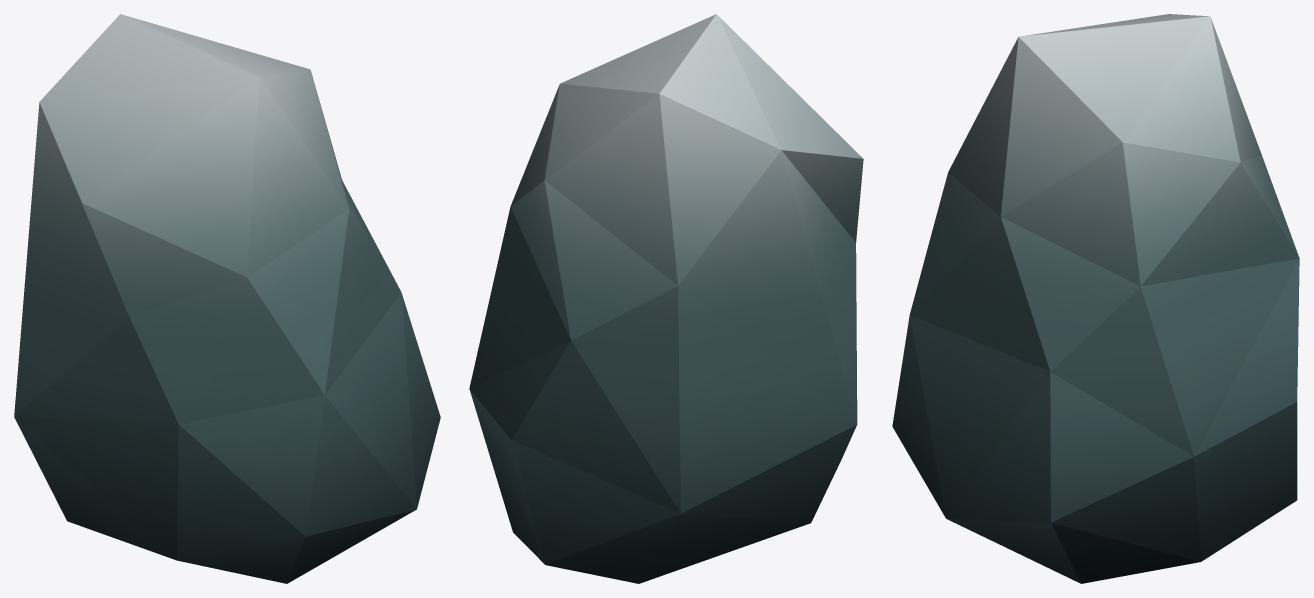
The picture shows the model from 3 angles, left to right: view 1: azimuth 30°, elevation 25°; view 2: azimuth 150°, elevation 25°; view 3: azimuth 270°, elevation 25°; orthographic projection. The views are drawn at different scales.
Visible parts, largest first — view 1: Base_05; view 2: Base_05; view 3: Base_05.
Part boxes in pixels (<box>): Base_05: <box>14,14,440,583</box>; Base_05: <box>469,14,863,583</box>; Base_05: <box>892,14,1299,583</box>.
Size of the model in its own units: 0.5981 by 0.7489 by 0.5511.
